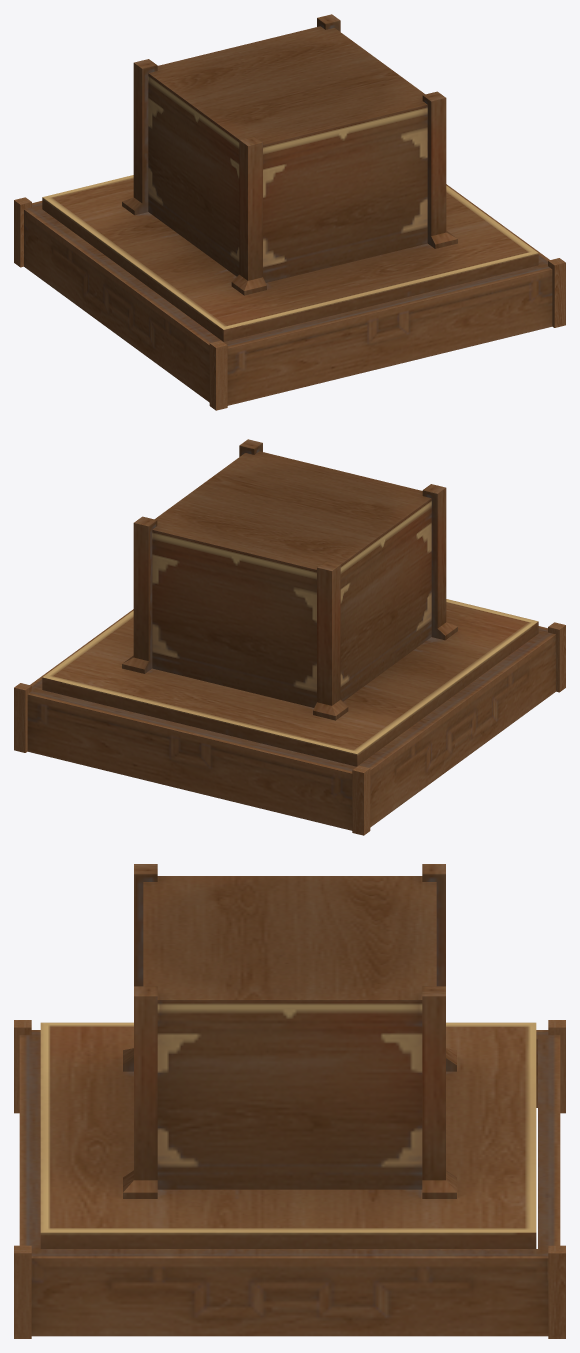
File: fb_prop_jiutaizi_02.FBX
The picture shows the model from 3 angles, top to bottom: view 1: azimuth 30°, elevation 25°; view 2: azimuth 150°, elevation 25°; view 3: azimuth 270°, elevation 25°; orthographic projection. The views are drawn at different scales.
Visible parts, largest first — view 1: fb_prop_jiutaizi_02; view 2: fb_prop_jiutaizi_02; view 3: fb_prop_jiutaizi_02.
Part boxes in pixels (x1,y1,x2,y2): fb_prop_jiutaizi_02: [14, 14, 565, 410]; fb_prop_jiutaizi_02: [14, 439, 565, 835]; fb_prop_jiutaizi_02: [14, 864, 565, 1338].
Bounding box in the file's own units: 61.25 × 35.77 × 61.27.
